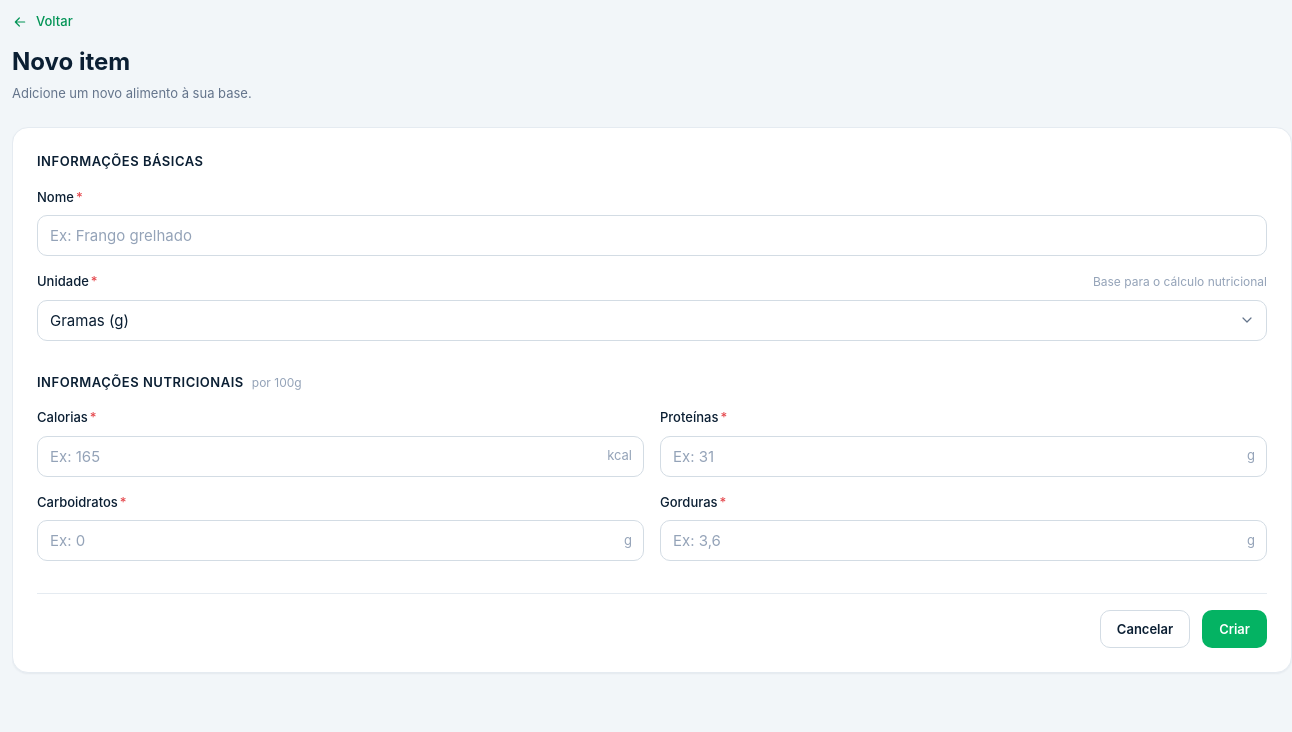
ItemCreatePage › asks for every empty nutrient instead of saving zeros
Type "Rice" into the field labelled "Nome*".
click(652, 236); type("Rice")  # box left=37, top=215, right=1267, bottom=256
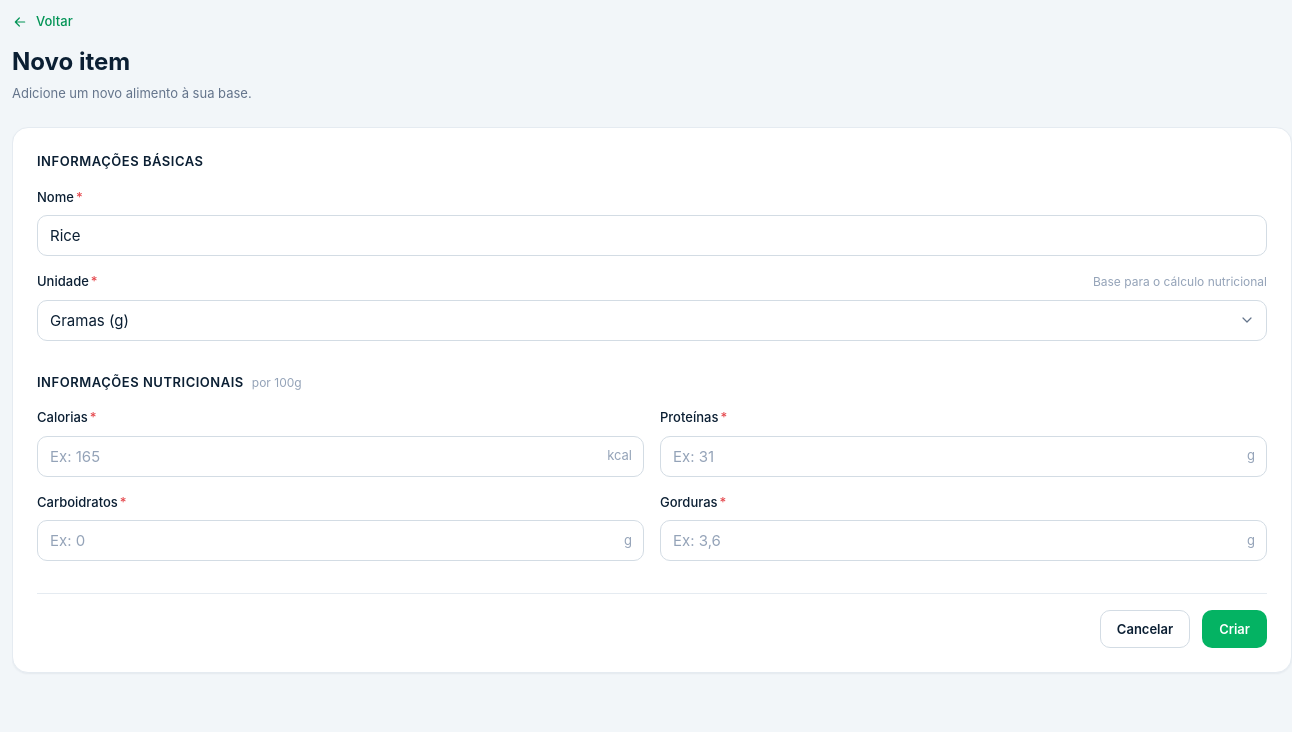
Click the button "Criar".
click(1235, 629)  # box left=1202, top=610, right=1267, bottom=648
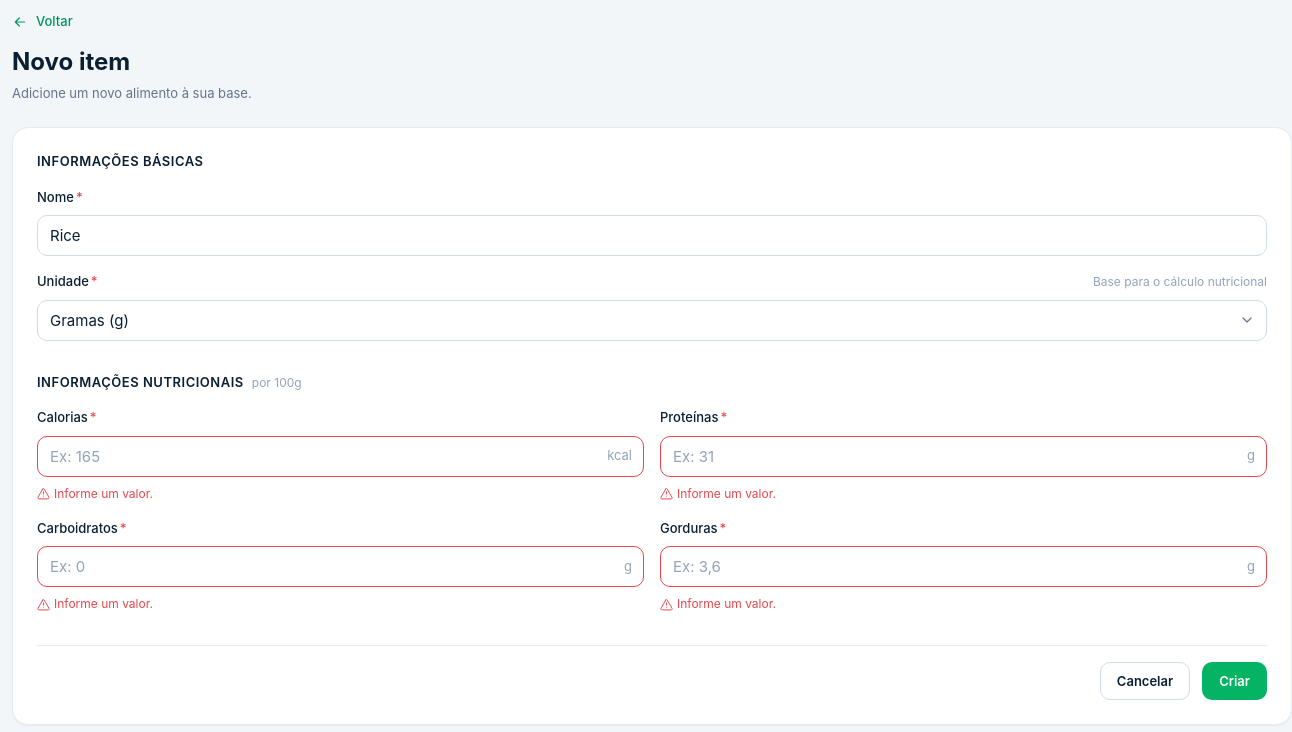
Now the text "Informe um valor." is shown 4 times, box left=37, top=486, right=153, bottom=500; left=660, top=486, right=776, bottom=500; left=37, top=596, right=153, bottom=611; left=660, top=596, right=776, bottom=611
